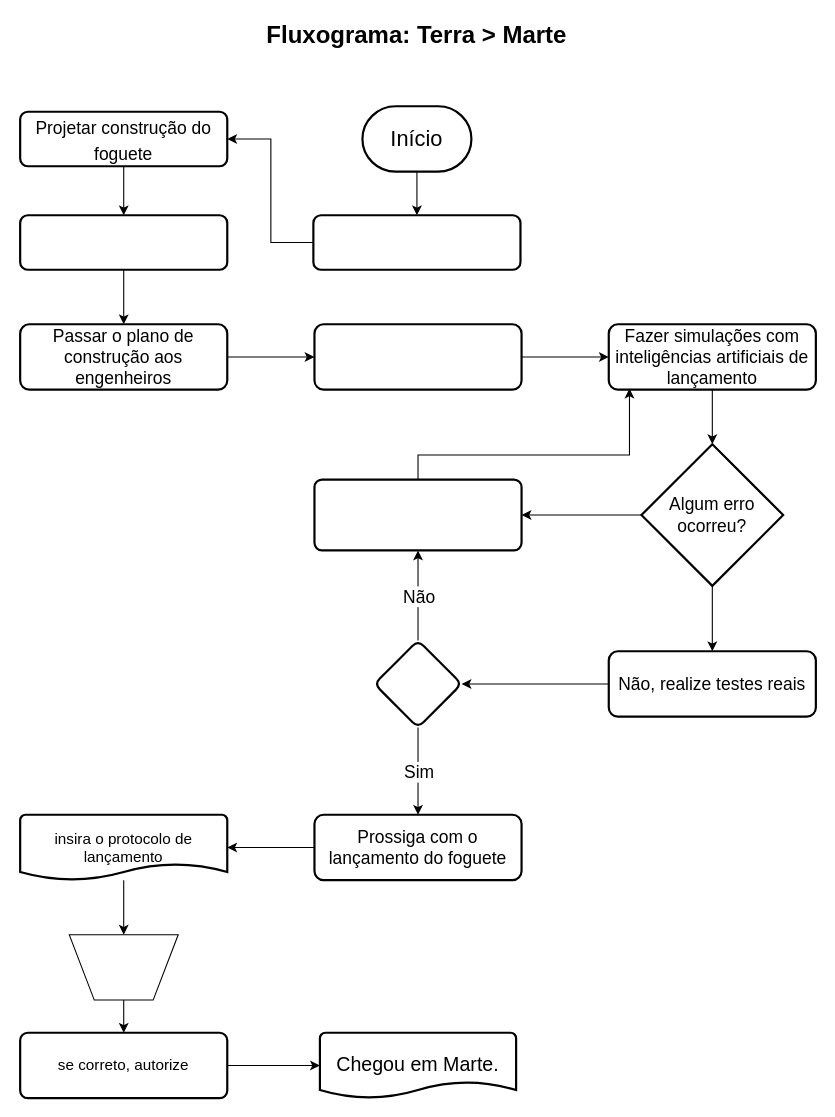
The diagram is 835 pixels wide and 1117 high, and some of its shapes have lost their labels. Each missing label, with the centre of its shape:
"Calcular possíveis rotas e tempo de ida e volta do foguete" belongs at (x=416, y=242).
"Construir o foguete" belongs at (x=417, y=356).
"Contratar engenheiros capacitados para a construção" belongs at (x=123, y=242).
"Sim, revise o projeto, a construção e recalcule as rotas" belongs at (x=417, y=514).
"Sucesso?" belongs at (x=417, y=683).
